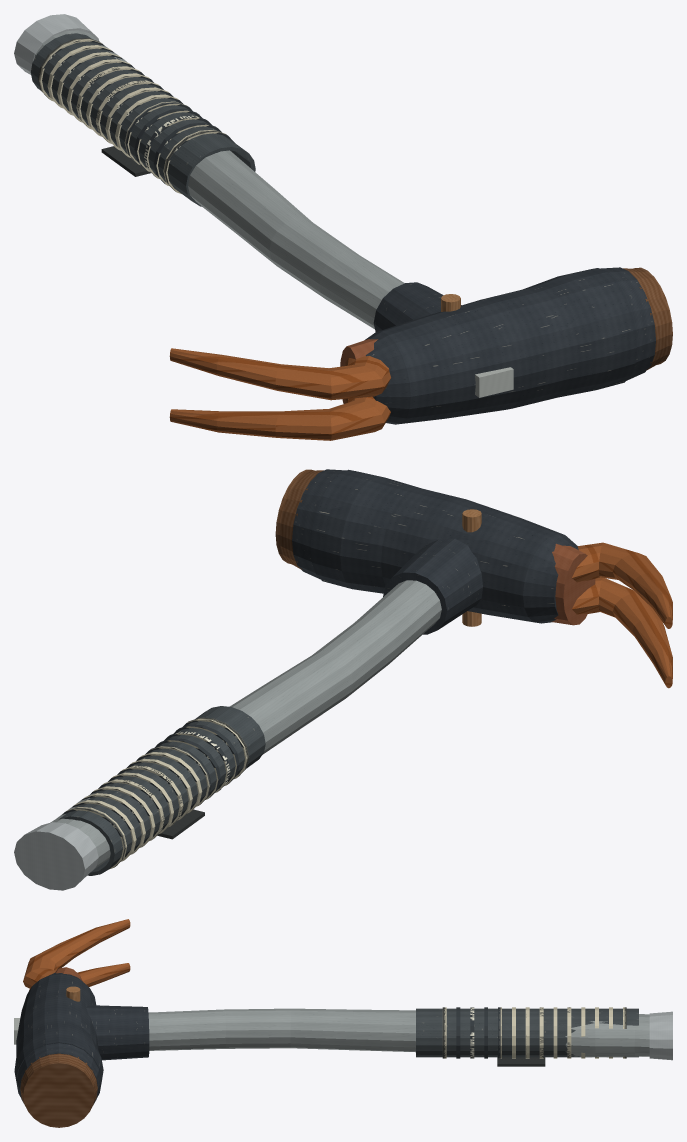
Rendered from PZ_TOOL_01_Carpenters_Claw_Hammer.glb.
3 renders of one model, top to bottom at view 1: azimuth 30°, elevation 25°; view 2: azimuth 150°, elevation 25°; view 3: azimuth 270°, elevation 25°, orthographic. The views are drawn at different scales.
Parts seen in each view (by area): view 1: HAMMER_Head_Forged_Steel_Core, HAMMER_Handle_Solid_Hickory_330mm, HAMMER_Grip_Rubber_OuterSleeve, HAMMER_Grip_Ridges_14_MouldedRings, HAMMER_Claw_RIGHT_ForgedNailPryTine, HAMMER_Claw_LEFT_ForgedNailPryTine, HAMMER_Head_Face_Expanded_ShoulderedNeck, HAMMER_Head_Eye_Neck_Collar, HAMMER_Handle_Butt_Endcap, HAMMER_Head_Face_Hardened_StrikingDisc, HAMMER_Head_Top_Exposed_Wedge; view 2: HAMMER_Head_Forged_Steel_Core, HAMMER_Handle_Solid_Hickory_330mm, HAMMER_Grip_Rubber_OuterSleeve, HAMMER_Grip_Ridges_14_MouldedRings, HAMMER_Head_Eye_Neck_Collar, HAMMER_Handle_Butt_Endcap, HAMMER_Claw_LEFT_ForgedNailPryTine, HAMMER_Claw_RIGHT_ForgedNailPryTine, HAMMER_Head_Face_Expanded_ShoulderedNeck, HAMMER_Claw_Root_SplitBridge, HAMMER_Head_Face_Hardened_StrikingDisc, HAMMER_Head_Forging_Pin; view 3: HAMMER_Handle_Solid_Hickory_330mm, HAMMER_Grip_Rubber_OuterSleeve, HAMMER_Head_Forged_Steel_Core, HAMMER_Head_Face_Hardened_StrikingDisc, HAMMER_Head_Eye_Neck_Collar, HAMMER_Grip_Ridges_14_MouldedRings, HAMMER_Claw_RIGHT_ForgedNailPryTine, HAMMER_Head_Face_Expanded_ShoulderedNeck, HAMMER_Handle_Butt_Endcap, HAMMER_Claw_LEFT_ForgedNailPryTine, HAMMER_Grip_ASHFORGE_IdentificationLabel.
Part boxes in pixels (box(x1,y1,x2,y2)): HAMMER_Head_Forged_Steel_Core: box(364, 268, 636, 424); HAMMER_Handle_Solid_Hickory_330mm: box(34, 30, 404, 329); HAMMER_Grip_Rubber_OuterSleeve: box(30, 33, 255, 206); HAMMER_Grip_Ridges_14_MouldedRings: box(38, 38, 234, 193); HAMMER_Claw_RIGHT_ForgedNailPryTine: box(169, 348, 390, 400); HAMMER_Claw_LEFT_ForgedNailPryTine: box(169, 396, 390, 440); HAMMER_Head_Face_Expanded_ShoulderedNeck: box(600, 267, 655, 380); HAMMER_Head_Eye_Neck_Collar: box(373, 282, 461, 331); HAMMER_Handle_Butt_Endcap: box(14, 14, 99, 74); HAMMER_Head_Face_Hardened_StrikingDisc: box(623, 267, 672, 370); HAMMER_Head_Top_Exposed_Wedge: box(475, 367, 513, 397); HAMMER_Head_Forged_Steel_Core: box(310, 469, 578, 623); HAMMER_Handle_Solid_Hickory_330mm: box(50, 580, 441, 869); HAMMER_Grip_Rubber_OuterSleeve: box(59, 706, 265, 875); HAMMER_Grip_Ridges_14_MouldedRings: box(62, 717, 248, 869); HAMMER_Head_Eye_Neck_Collar: box(383, 538, 482, 634); HAMMER_Handle_Butt_Endcap: box(14, 822, 98, 890); HAMMER_Claw_LEFT_ForgedNailPryTine: box(572, 577, 672, 688); HAMMER_Claw_RIGHT_ForgedNailPryTine: box(572, 542, 672, 628); HAMMER_Head_Face_Expanded_ShoulderedNeck: box(292, 469, 346, 579); HAMMER_Claw_Root_SplitBridge: box(552, 543, 595, 625); HAMMER_Head_Face_Hardened_StrikingDisc: box(275, 469, 323, 569); HAMMER_Head_Forging_Pin: box(462, 509, 481, 626); HAMMER_Handle_Solid_Hickory_330mm: box(148, 1008, 649, 1057); HAMMER_Grip_Rubber_OuterSleeve: box(416, 1008, 638, 1057); HAMMER_Head_Forged_Steel_Core: box(14, 972, 103, 1096); HAMMER_Head_Face_Hardened_StrikingDisc: box(20, 1053, 97, 1127); HAMMER_Head_Eye_Neck_Collar: box(86, 1005, 149, 1060); HAMMER_Grip_Ridges_14_MouldedRings: box(442, 1007, 626, 1058); HAMMER_Claw_RIGHT_ForgedNailPryTine: box(23, 919, 130, 988); HAMMER_Head_Face_Expanded_ShoulderedNeck: box(17, 1043, 101, 1104); HAMMER_Handle_Butt_Endcap: box(649, 1011, 672, 1060); HAMMER_Claw_LEFT_ForgedNailPryTine: box(29, 963, 130, 990); HAMMER_Grip_ASHFORGE_IdentificationLabel: box(497, 1057, 545, 1066).
Size of the model in its own units: 0.2003 by 0.05 by 0.3692.
Materials: 1 (1 with a texture image).
